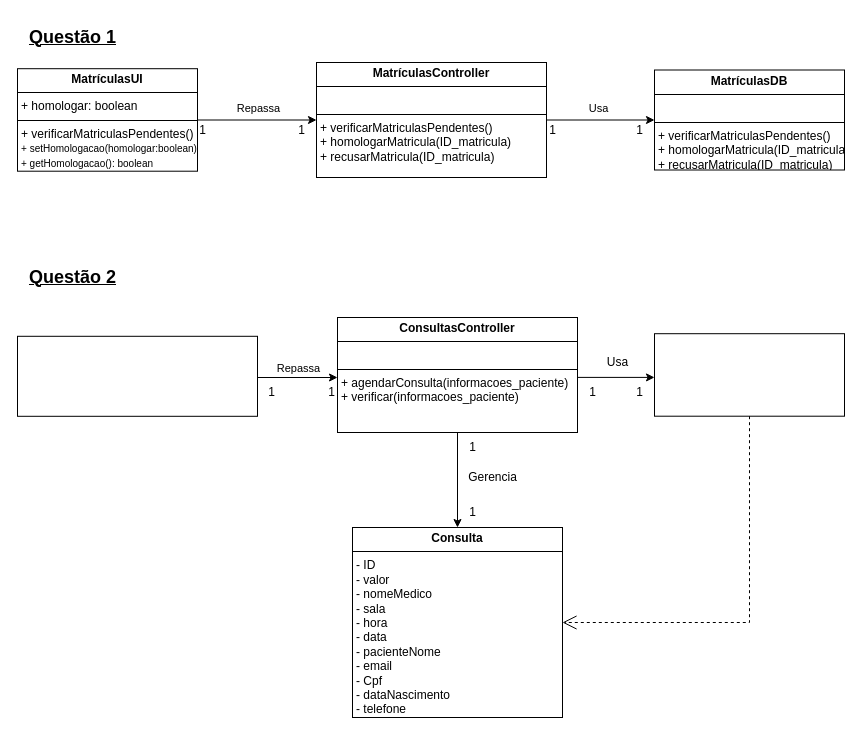
The diagram is 866 pixels wide and 735 high, and some of its shapes have lost their labels. The centre of each missing label's shape, as x and y in pixels:
"ConsultasDB + salvar(c: Consulta)" goes at (x=749, y=374).
"ConsultasUI + agendarConsulta(informacoes_paciente)" goes at (x=137, y=375).
